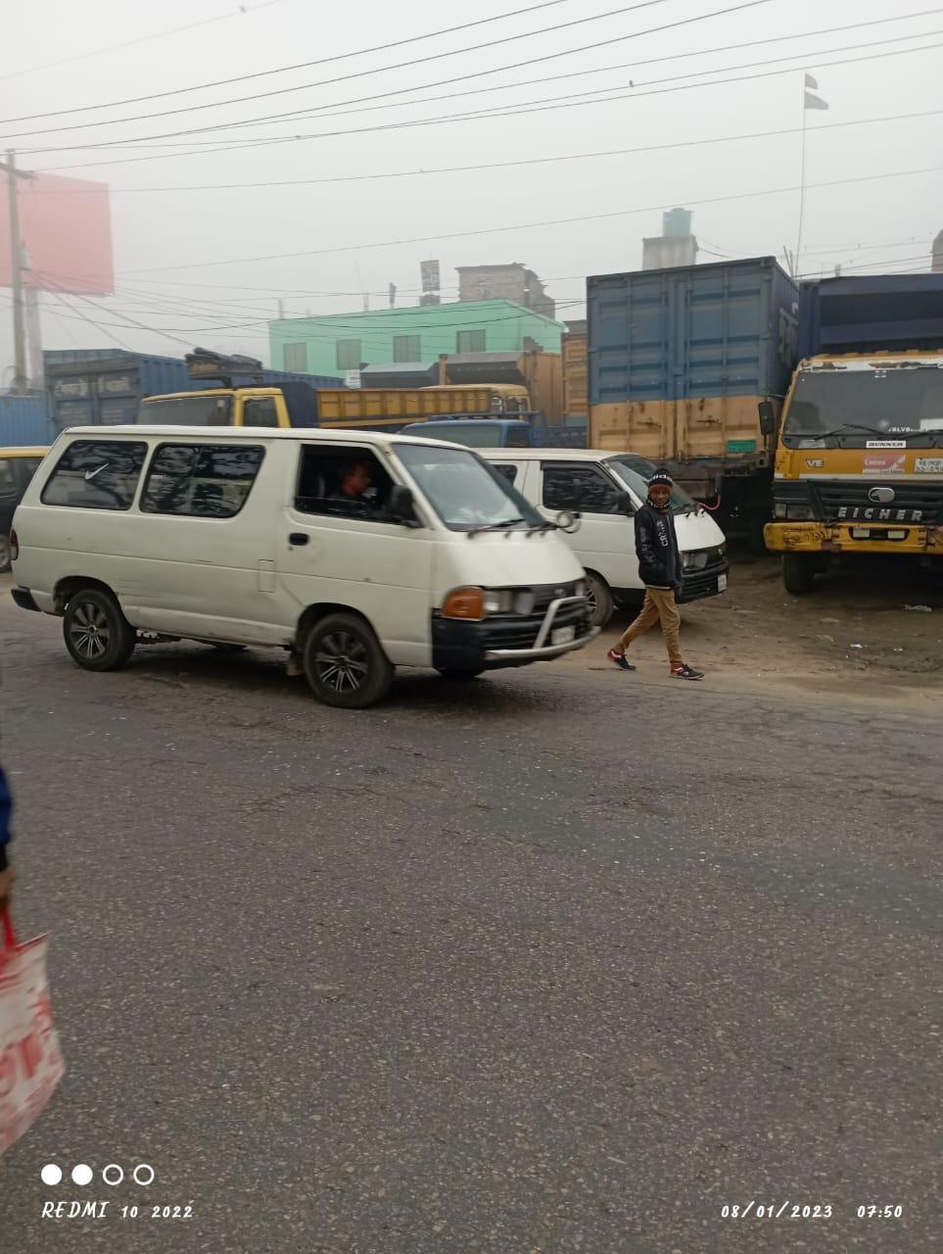Car: (10, 410, 595, 690), (491, 430, 741, 618)
Truck: (756, 264, 943, 616), (572, 250, 785, 502)
